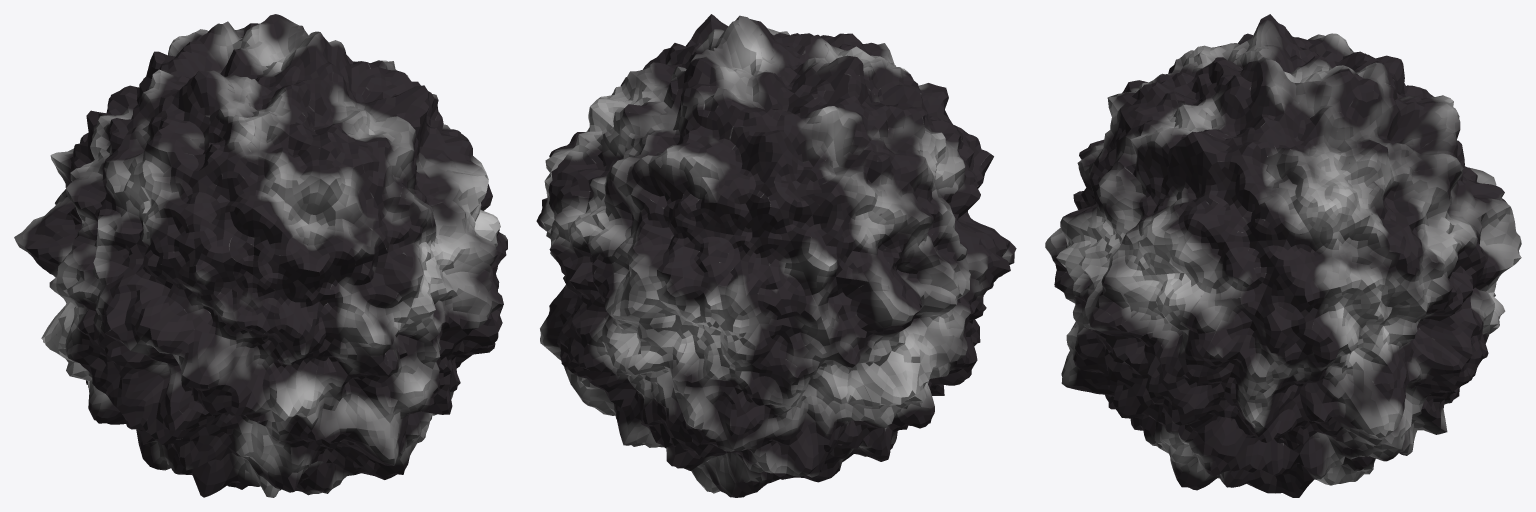
Rendered from cometa.fbx.
The picture shows the model from 3 angles, left to right: view 1: azimuth 30°, elevation 25°; view 2: azimuth 150°, elevation 25°; view 3: azimuth 270°, elevation 25°; orthographic projection. The views are drawn at different scales.
Parts seen in each view (by area): view 1: Icosphere; view 2: Icosphere; view 3: Icosphere.
Part boxes in pixels (left/top/right/bottom): Icosphere: left=14, top=14, right=507, bottom=497; Icosphere: left=536, top=14, right=1016, bottom=497; Icosphere: left=1045, top=14, right=1521, bottom=497.
Size of the model in its own units: 223 by 227 by 224.
1 material, 1 textured.
